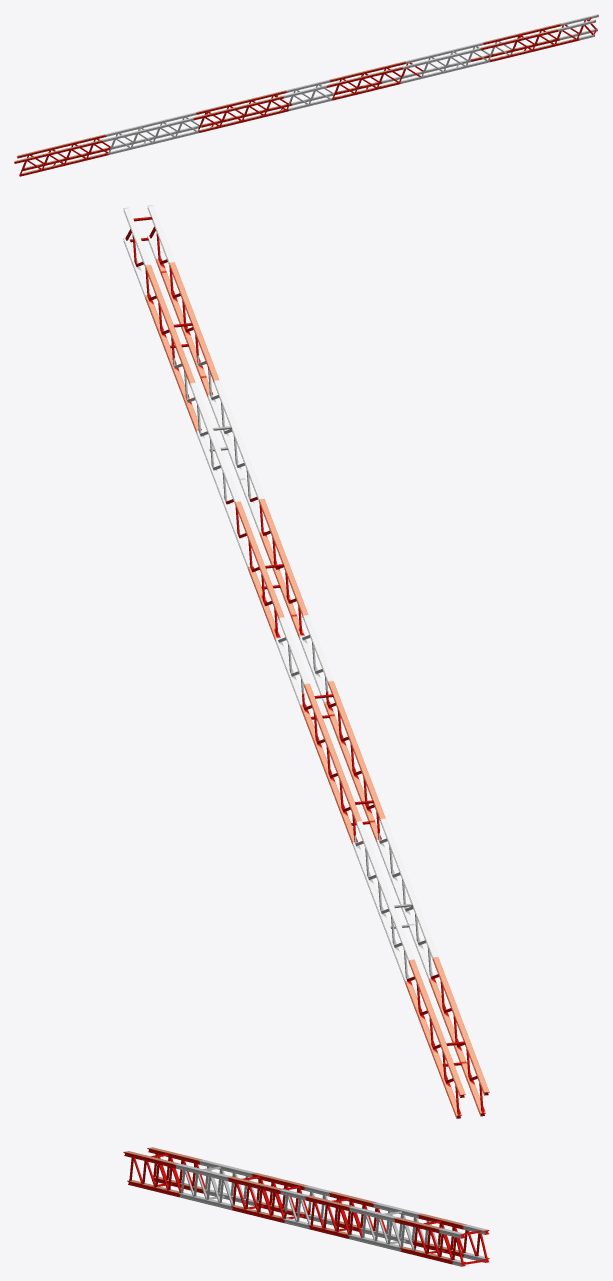
Rendered from kure-n2-arm.obj.
The picture shows the model from 3 angles, top to bottom: view 1: azimuth 30°, elevation 25°; view 2: azimuth 150°, elevation 25°; view 3: azimuth 330°, elevation 25°; orthographic projection. The views are drawn at different scales.
Bounding box in the file's own units: 53.4 × 28.66 × 51.08.
1 material, 1 textured.
